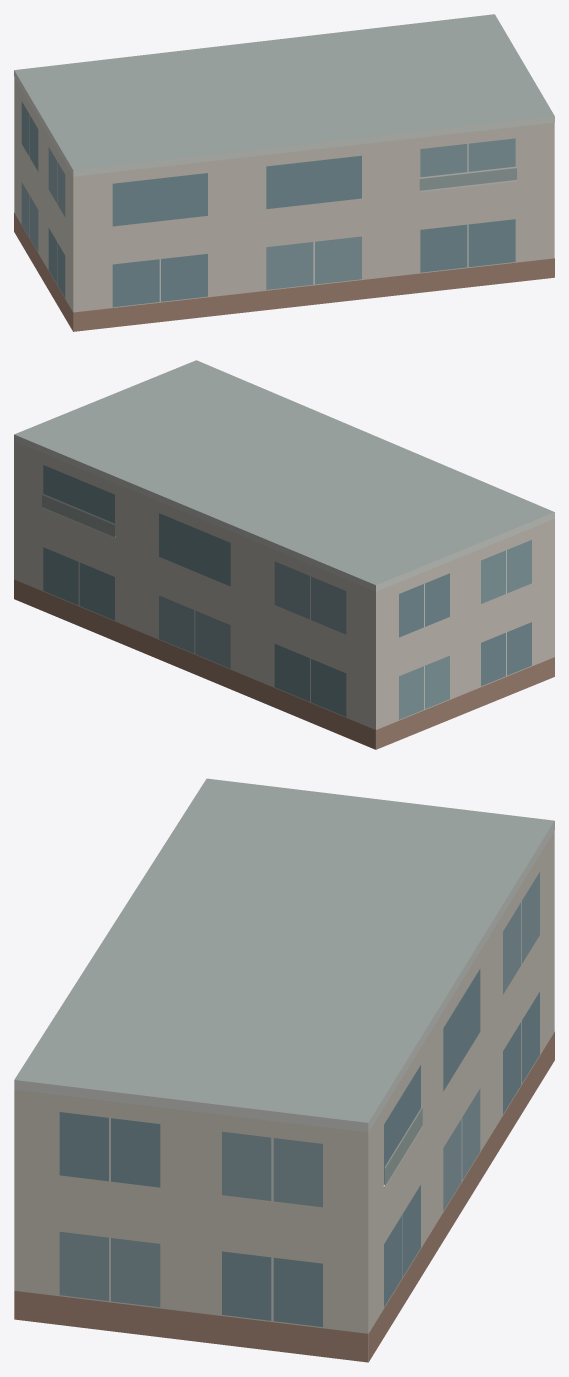
Rendered from survey-upis-32916714.glb.
3 renders of one model, top to bottom at view 1: azimuth 30°, elevation 25°; view 2: azimuth 150°, elevation 25°; view 3: azimuth 270°, elevation 25°, orthographic. The views are drawn at different scales.
Visible parts, largest first — view 1: survey-upis-32916714.tmp; view 2: survey-upis-32916714.tmp; view 3: survey-upis-32916714.tmp.
Part boxes in pixels (x1=…): survey-upis-32916714.tmp: x1=14, y1=14, x2=554, y2=331; survey-upis-32916714.tmp: x1=14, y1=360, x2=554, y2=749; survey-upis-32916714.tmp: x1=14, y1=778, x2=554, y2=1362.
Size of the model in its own units: 18.83 by 6.1 by 12.49.
